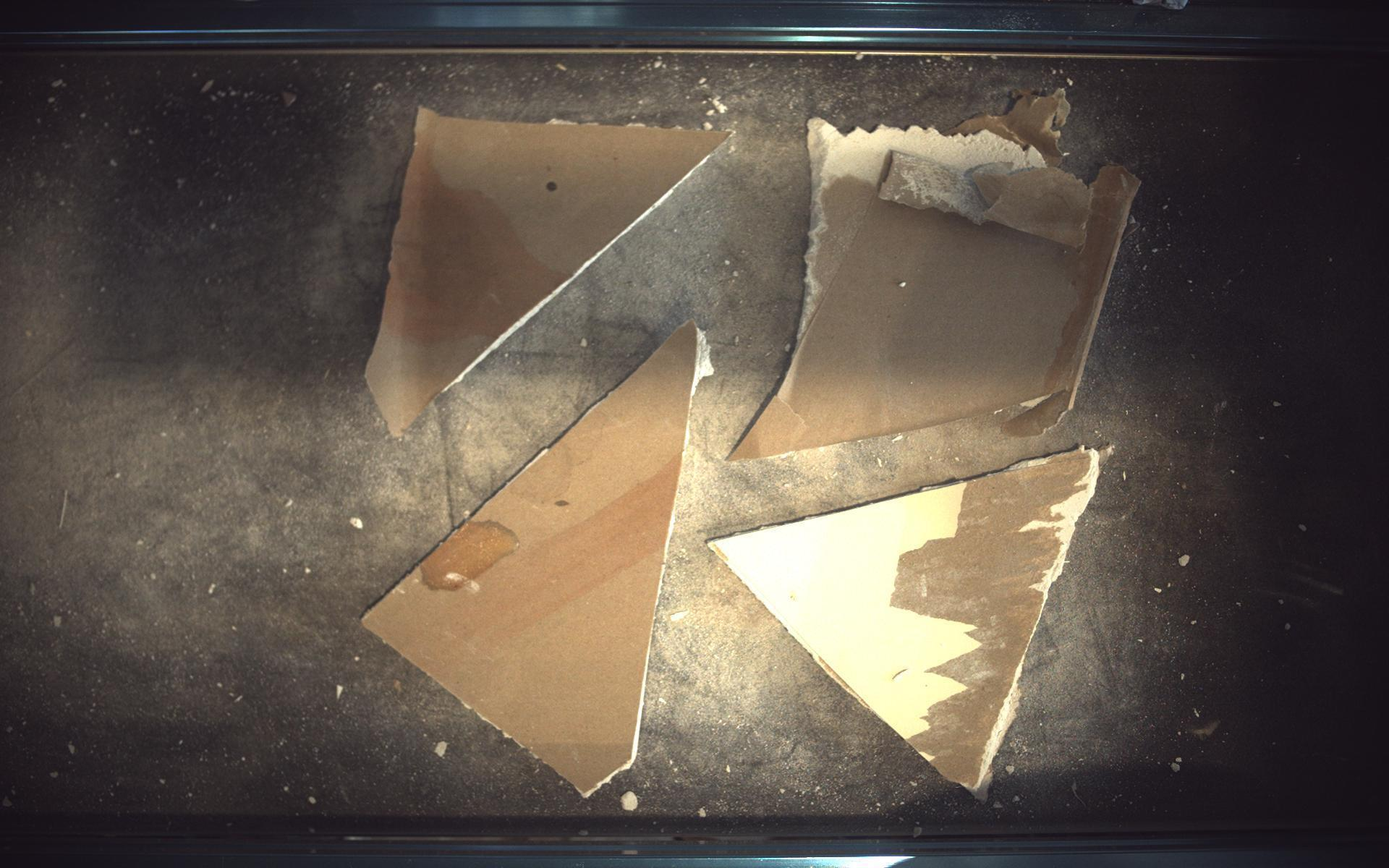gypsum_board: (362, 321, 715, 796), (731, 88, 1142, 460), (710, 447, 1109, 798), (365, 106, 729, 436)
